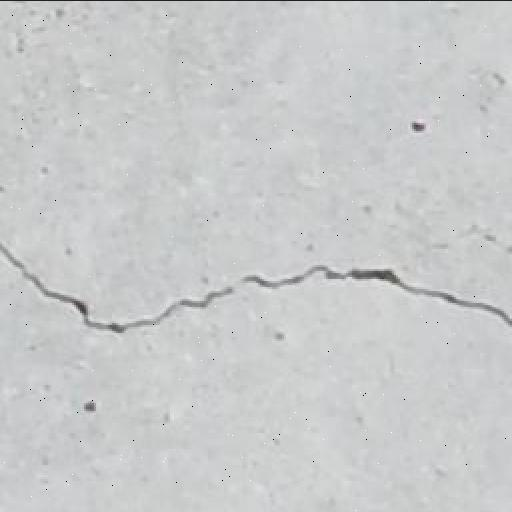spalling: (3, 232, 504, 356)
